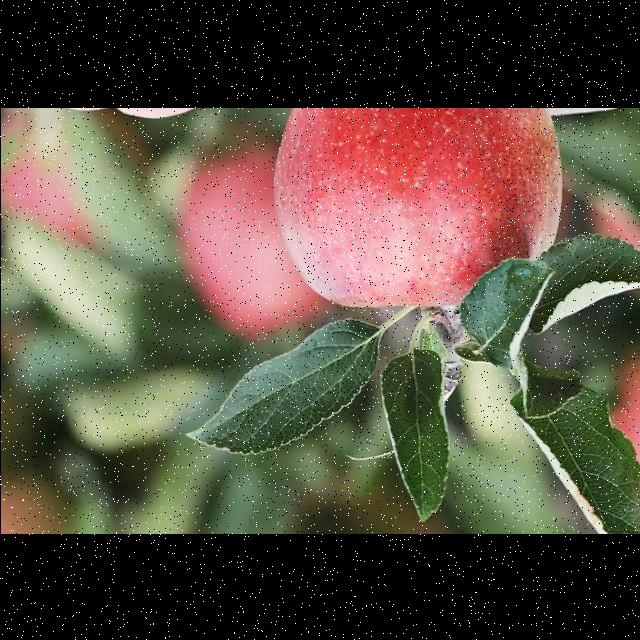Apel Segar: (234, 107, 600, 353)
